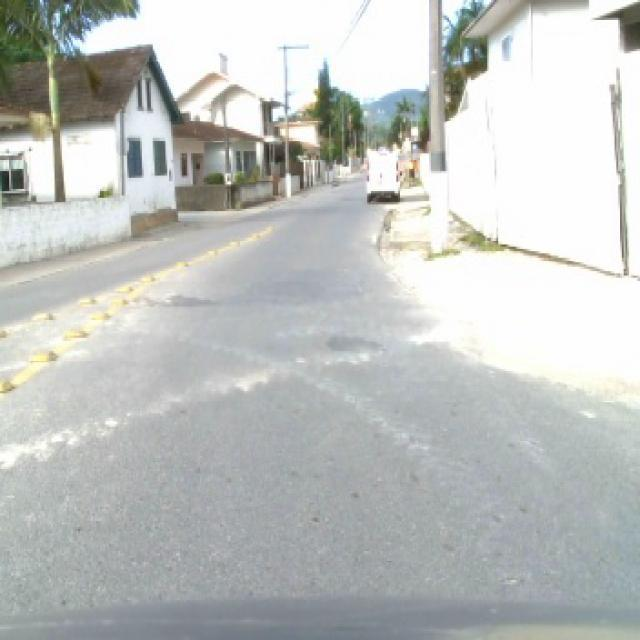Poth-hole: (0, 424, 78, 466), (125, 291, 218, 307), (232, 366, 268, 392), (95, 414, 118, 436), (26, 347, 56, 360), (0, 373, 15, 391), (29, 309, 52, 320), (62, 326, 87, 336), (89, 309, 109, 318), (75, 294, 96, 302), (114, 282, 132, 291), (172, 260, 188, 267), (140, 273, 155, 280), (109, 296, 126, 302), (206, 246, 218, 254), (0, 326, 5, 335)
